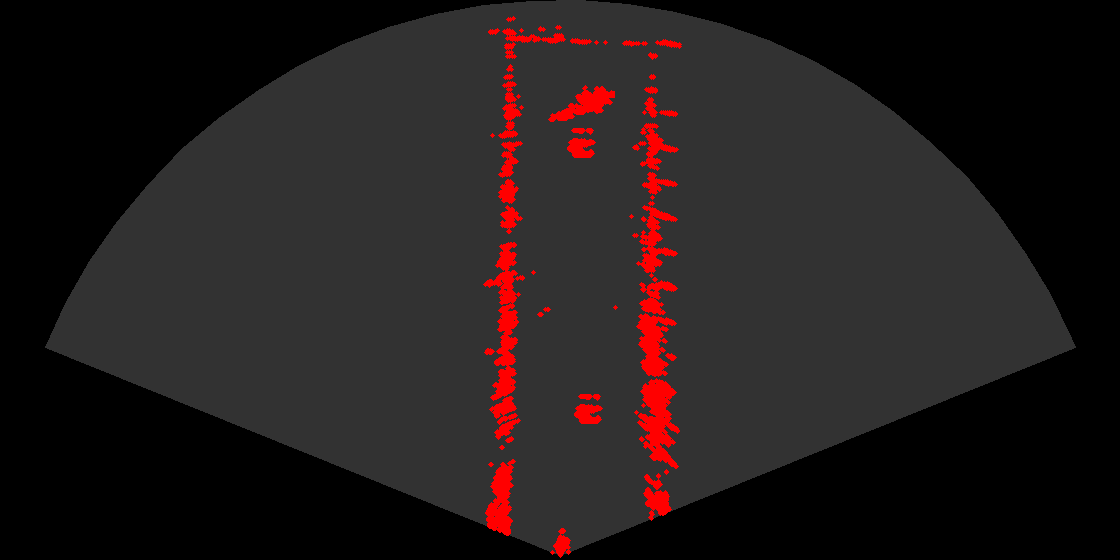ball: (547, 120, 607, 161), (554, 386, 614, 427)
frogman: (547, 79, 615, 126)
